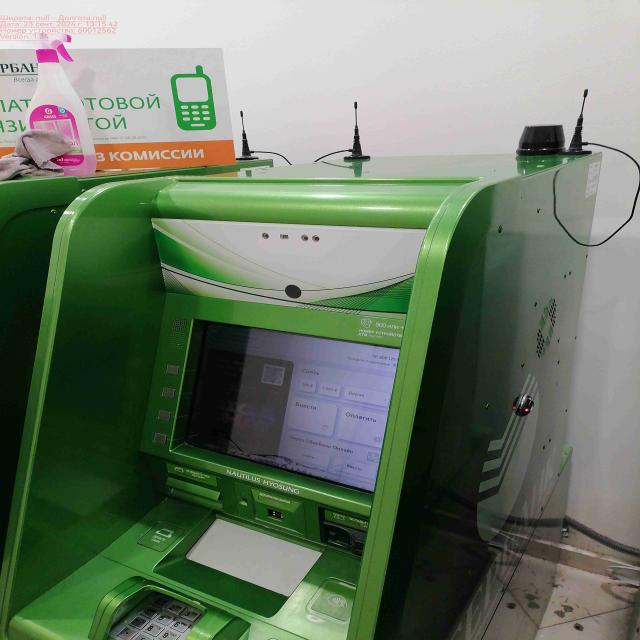bank: (10, 157, 592, 640)
